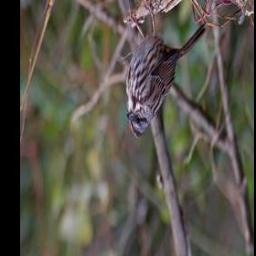Sparrow: (125, 1, 208, 139)
